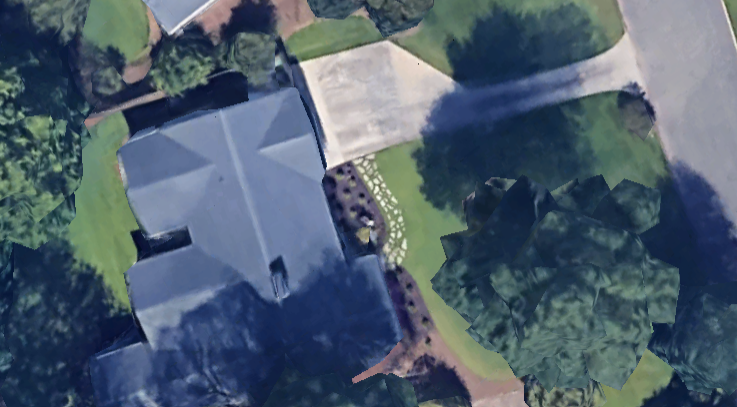driveway: (298, 0, 643, 168)
